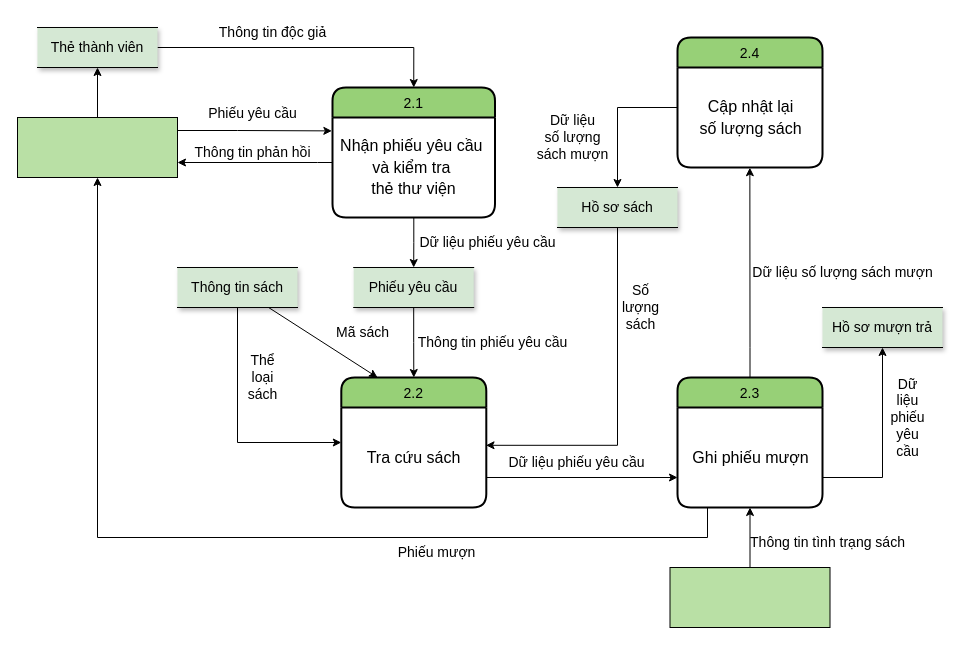
The diagram is 966 pixels wide and 645 high, and some of its shapes have lost their labels. Here are the shapes that lost their labels. From the top down, the centre of each, then its label:
pixel 97 147: ĐỘC GIẢ
pixel 749 597: THỦ THƯ
